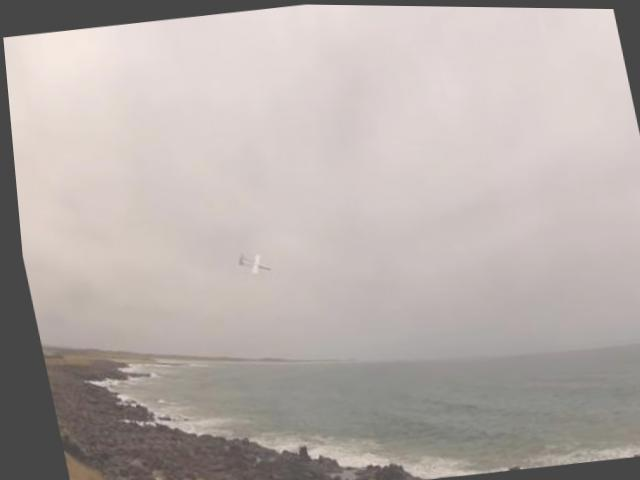uav: (224, 238, 272, 287)
